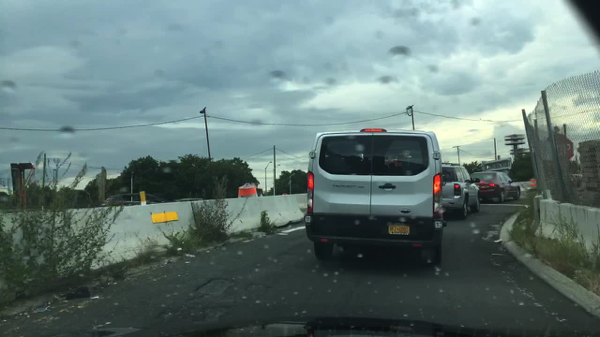car: (304, 128, 442, 264), (440, 162, 479, 218), (469, 171, 520, 204), (96, 193, 170, 207), (172, 197, 204, 203)
traffic sign: (545, 134, 573, 161)
